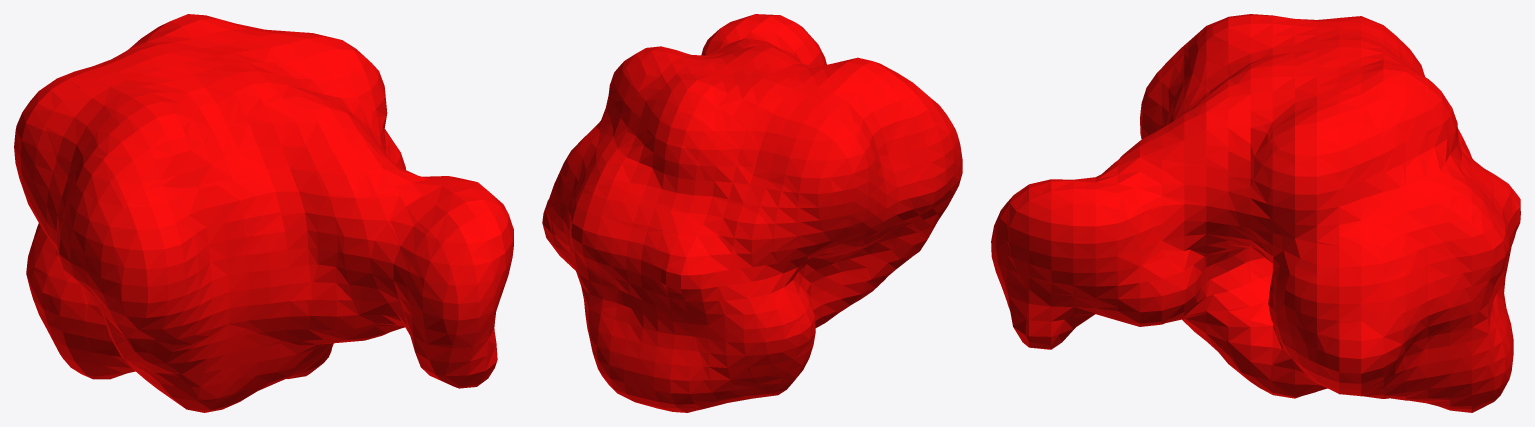
The model's file is queC_coarse.dae.
3 renders of one model, left to right at view 1: azimuth 30°, elevation 25°; view 2: azimuth 150°, elevation 25°; view 3: azimuth 270°, elevation 25°, orthographic. The views are drawn at different scales.
Visible parts, largest first — view 1: queC; view 2: queC; view 3: queC.
Boxes of the visible parts, x1,y1,x2,y2 form: queC: (14,14,513,412); queC: (542,14,962,412); queC: (991,14,1520,412).
Size of the model in its own units: 49.14 by 40.97 by 59.04.
